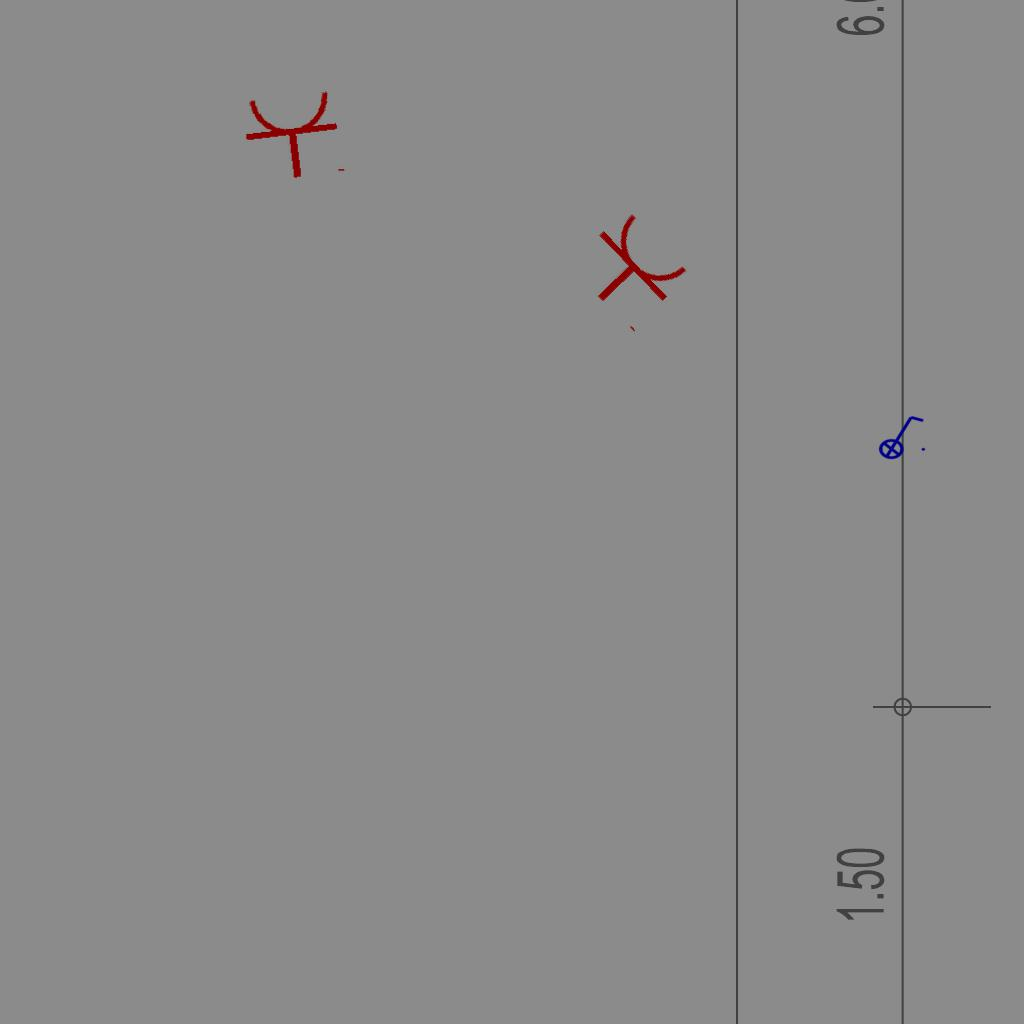Ausschalter_beleuchtet: (872, 412, 928, 460)
Schukosteckdose_einfach: (565, 204, 698, 338), (239, 86, 350, 186)
